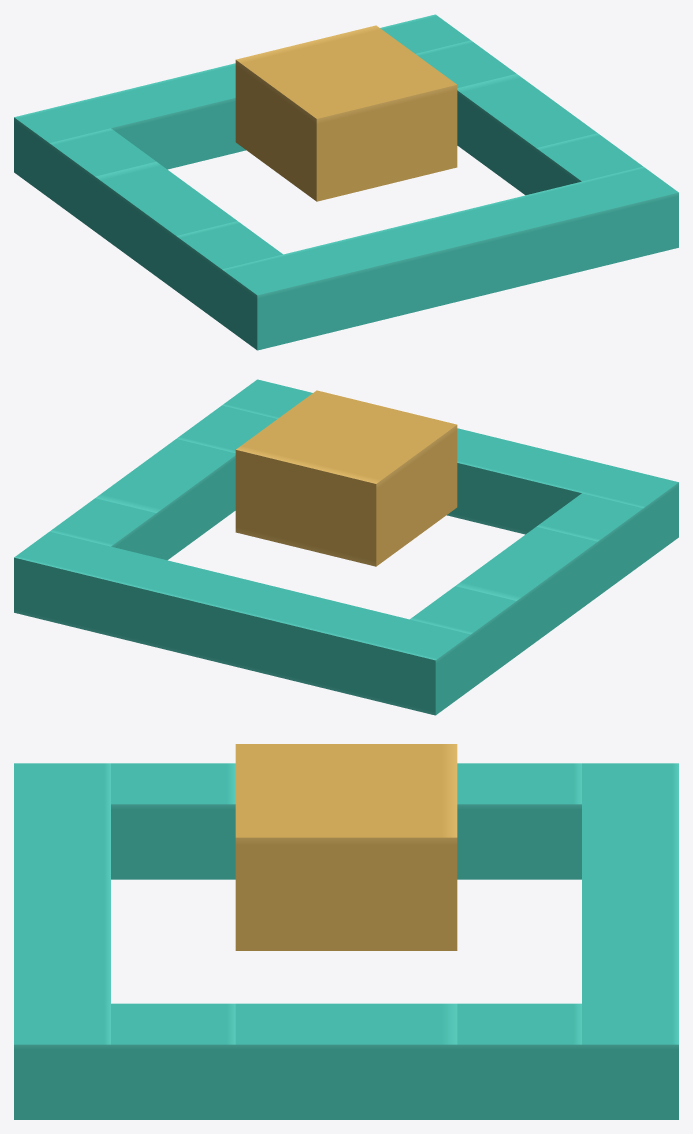
File: sc_pickup_gyro_stabilizer.obj
3 renders of one model, top to bottom at view 1: azimuth 30°, elevation 25°; view 2: azimuth 150°, elevation 25°; view 3: azimuth 270°, elevation 25°, orthographic. The views are drawn at different scales.
Bounding box in the file's own units: 7.2 × 2.25 × 7.2.
1 material, 1 textured.
